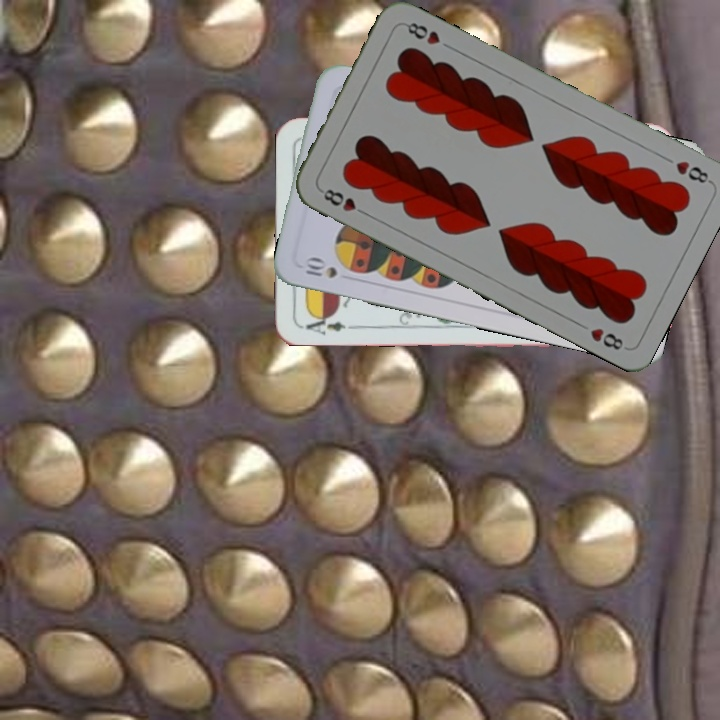EA: (299, 310, 358, 337)
H8: (316, 184, 371, 218), (671, 156, 714, 186)
S10: (300, 253, 340, 281)
